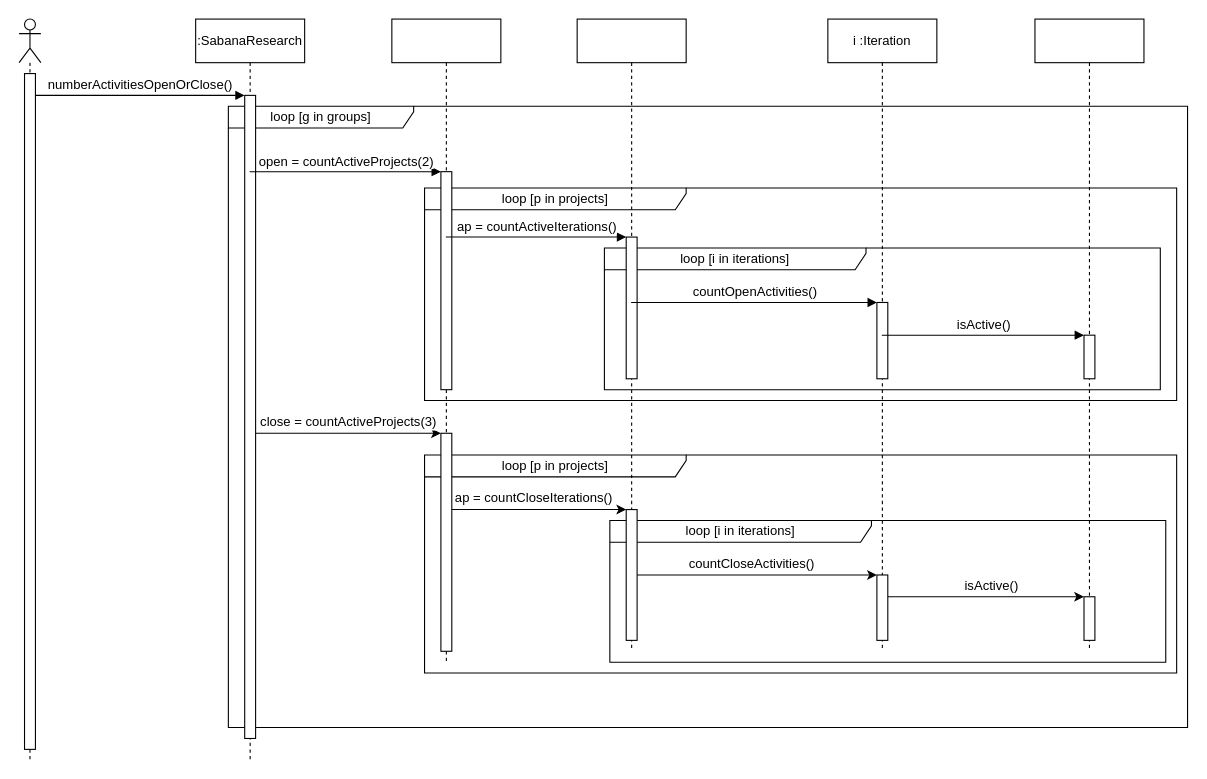
Image size: 1207x779. Some labels were removed from this diagram. Each missing label, with the box of its shape:
:Activity: (1034, 18, 1144, 651)
g :Group: (391, 18, 501, 662)
p :Proyect: (576, 18, 686, 651)
